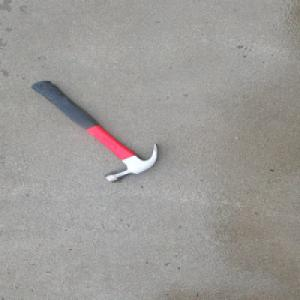Hammer: (31, 80, 162, 184)
